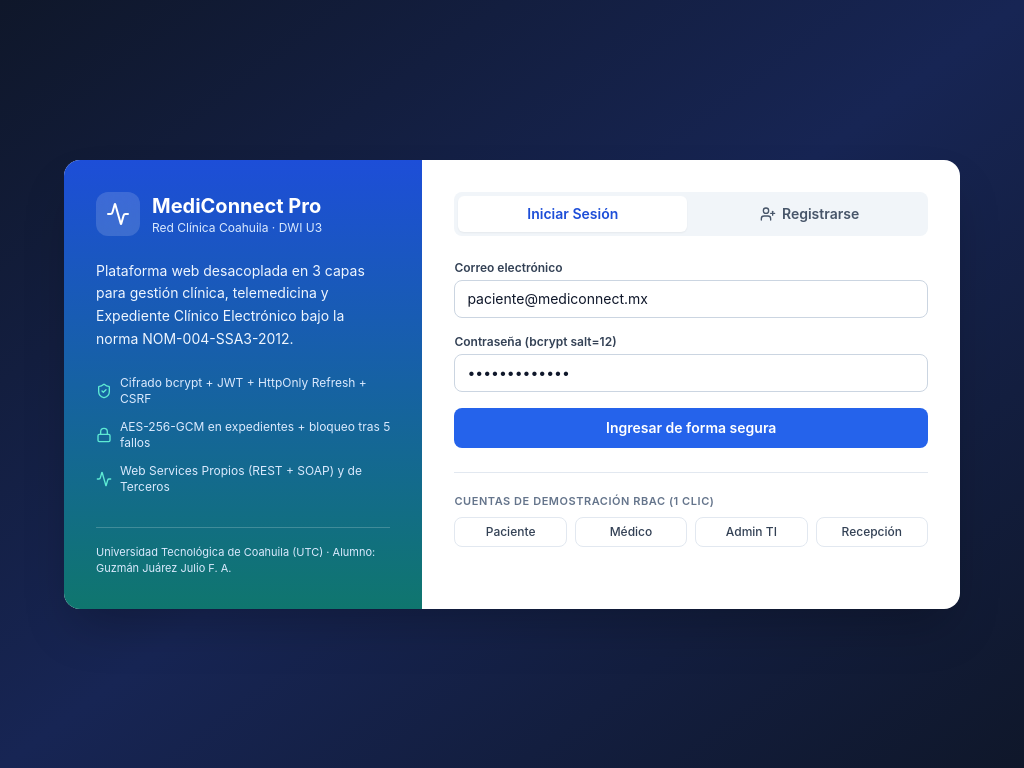
Test: Pruebas Unitarias Frontend (Vitest + React Testing Library) › LoginPage renderiza selector de cuentas demo RBAC y cambia entre Login y Registro
This screenshot has width=1024, height=768.
Expected: the heading "MediConnect Pro" is shown, [152, 192, 322, 220]
Expected: the button "Paciente" is shown, [454, 517, 567, 547]
Step 1. Click the button "Registrarse" → (810,214), box [695, 196, 924, 232]
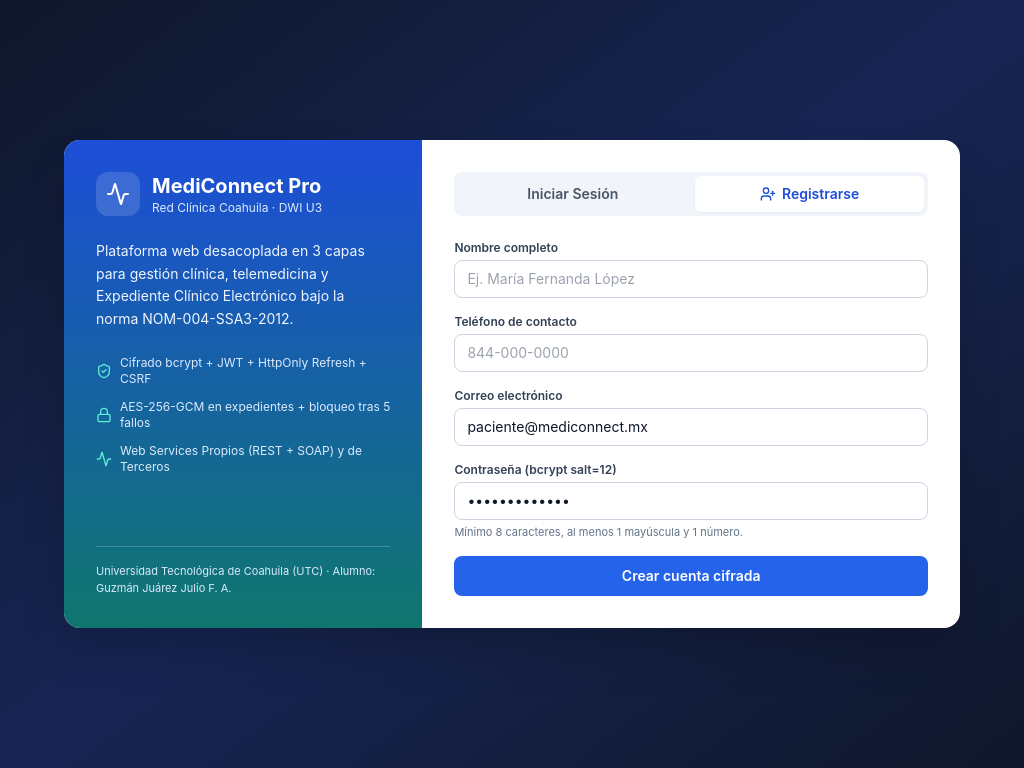
Now the text "Nombre completo" is shown, box [454, 240, 558, 255]
Now the button "Crear cuenta cifrada" is shown, box [454, 556, 928, 596]
